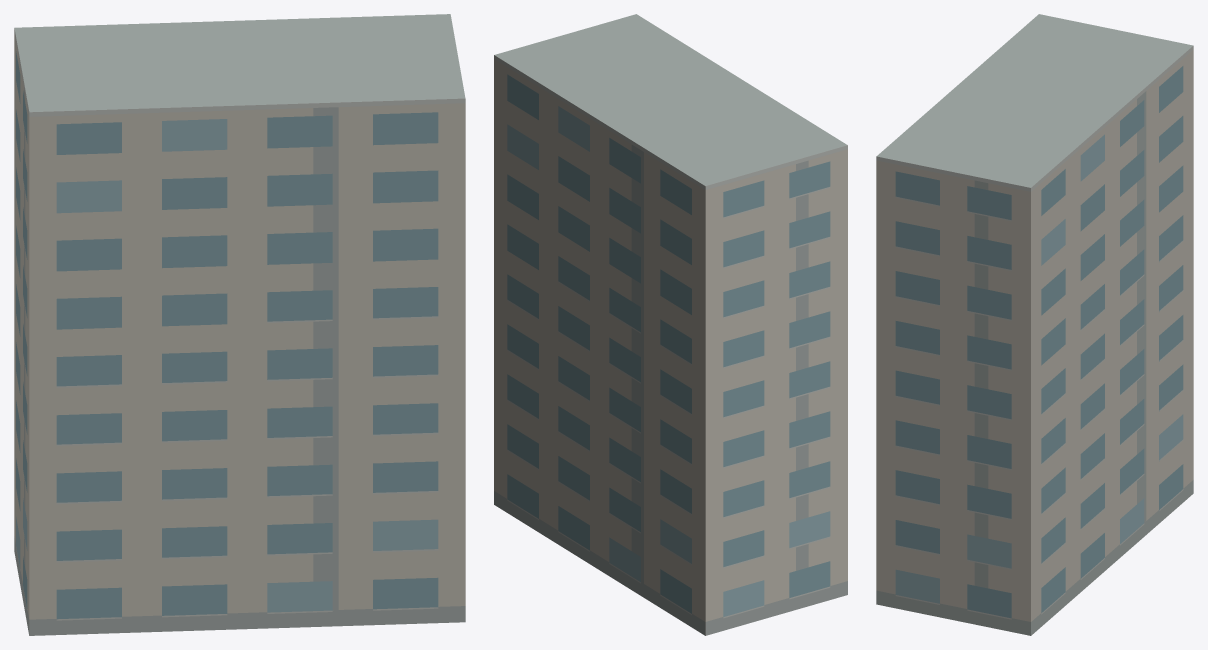
File: residential-23609d40-e058-43ec-a8d4-d9aeafb6682d.glb
3 views of the same model, side by side, from view 1: azimuth 30°, elevation 25°; view 2: azimuth 150°, elevation 25°; view 3: azimuth 270°, elevation 25° (orthographic). The views are drawn at different scales.
Parts seen in each view (by area): view 1: residential-23609d40-e058-43ec-a8d4-d9aeafb6682d.tmp; view 2: residential-23609d40-e058-43ec-a8d4-d9aeafb6682d.tmp; view 3: residential-23609d40-e058-43ec-a8d4-d9aeafb6682d.tmp.
Boxes of the visible parts, x1,y1,x2,y2 form: residential-23609d40-e058-43ec-a8d4-d9aeafb6682d.tmp: (14,14,465,635); residential-23609d40-e058-43ec-a8d4-d9aeafb6682d.tmp: (494,14,847,635); residential-23609d40-e058-43ec-a8d4-d9aeafb6682d.tmp: (876,14,1193,635).
Bounding box in the file's own units: 22.86 × 27.45 × 17.62.
